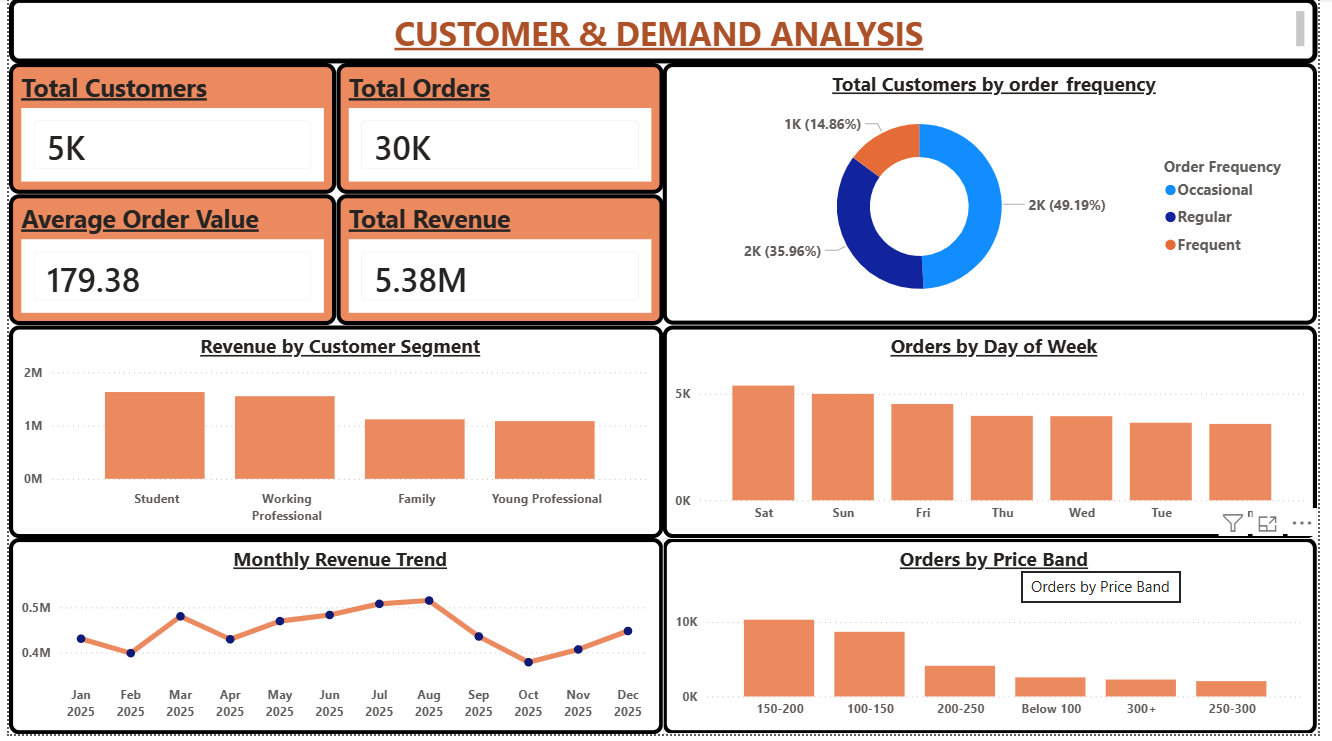

The page's visual inventory and layout, read from the dashboard file:
{"tool":"powerbi","page":{"name":"Customer & Demand","canvas":[1280,720],"ordinal":1},"visuals":[{"type":"textbox","box":[0,0,1280,64],"z":0},{"type":"cardVisual","title":"Total Customers","fields":{"Data":["orders.Total Customers"]},"box":[0,64,320,128],"z":1000},{"type":"cardVisual","title":"Average Order Value","fields":{"Data":["orders.Average Order Value"]},"box":[0,192,320,128],"z":2000},{"type":"cardVisual","title":"Total Orders","fields":{"Data":["orders.Total Orders"]},"box":[320,64,320,128],"z":3000},{"type":"cardVisual","title":"Total Revenue","fields":{"Data":["orders.Total Revenue"]},"box":[320,192,320,128],"z":4000},{"type":"clusteredColumnChart","title":"Revenue by Customer Segment","fields":{"Category":["orders.customer_segment"],"Y":["orders.Total Revenue"]},"box":[0,320,640,208],"z":5000},{"type":"lineChart","title":"Monthly Revenue Trend","fields":{"Category":["DateTable.Month Year"],"Y":["orders.Total Revenue"]},"box":[0,528,640,192],"z":6000},{"type":"columnChart","title":"Orders by Day of Week","fields":{"Category":["DateTable.Day Name"],"Y":["orders.Total Orders"]},"box":[640,320,640,208],"z":7000},{"type":"clusteredColumnChart","title":"Orders by Price Band","fields":{"Category":["orders.price_band"],"Y":["orders.Total Orders"]},"box":[640,528,640,192],"z":8000},{"type":"donutChart","fields":{"Category":["customers.order_frequency"],"Y":["orders.Total Customers"]},"box":[640,64,640,256],"z":9000}]}

Visuals, with their boxes in screenshot pixels (x1, y1, x2, y2), scaled from the page's 1280x720 canvas onto the 1332x741 screenshot:
textbox: BBox(0, 0, 1331, 66)
"Total Customers" cardVisual: BBox(0, 66, 333, 198)
"Average Order Value" cardVisual: BBox(0, 198, 333, 329)
"Total Orders" cardVisual: BBox(333, 66, 666, 198)
"Total Revenue" cardVisual: BBox(333, 198, 666, 329)
"Revenue by Customer Segment" clusteredColumnChart: BBox(0, 329, 666, 543)
"Monthly Revenue Trend" lineChart: BBox(0, 543, 666, 740)
"Orders by Day of Week" columnChart: BBox(666, 329, 1331, 543)
"Orders by Price Band" clusteredColumnChart: BBox(666, 543, 1331, 740)
donutChart - customers.order_frequency x orders.Total Customers: BBox(666, 66, 1331, 329)
